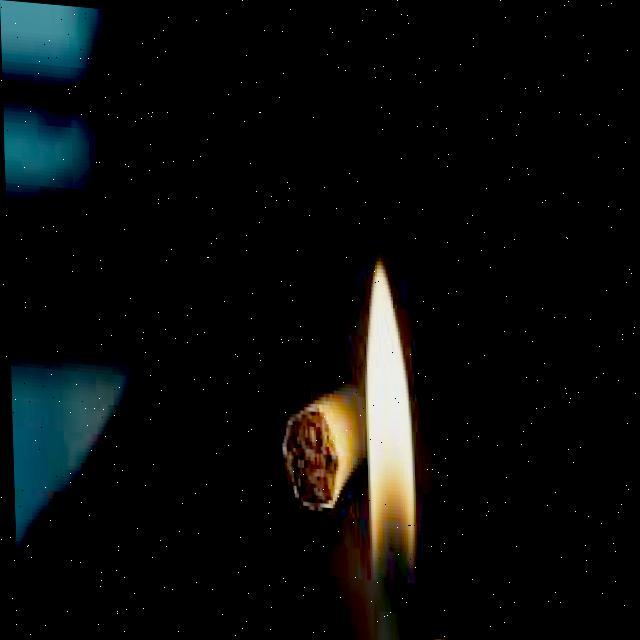Fire: (347, 241, 427, 562)
